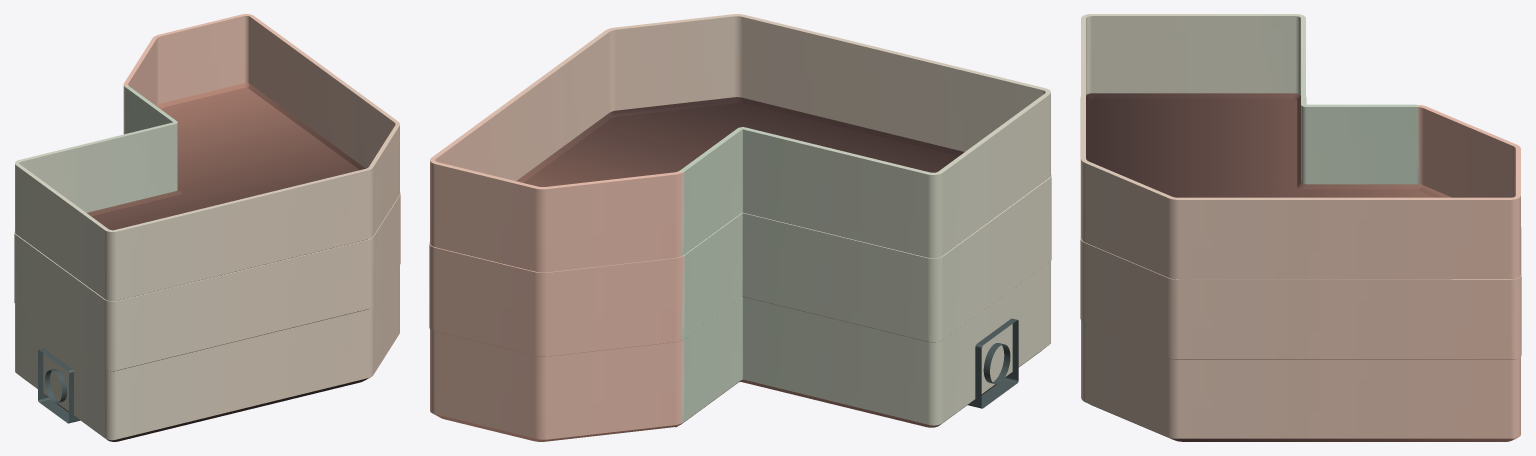
The model's file is SM_Room_1.fbx.
The picture shows the model from 3 angles, left to right: view 1: azimuth 30°, elevation 25°; view 2: azimuth 150°, elevation 25°; view 3: azimuth 270°, elevation 25°; orthographic projection. The views are drawn at different scales.
Visible parts, largest first — view 1: duplicated_24, pPlane3, SM_Room_1, polySurface7; view 2: duplicated_24, pPlane3, SM_Room_1, polySurface7; view 3: duplicated_24, SM_Room_1, pPlane3.
Boxes of the visible parts, x1,y1,x2,y2 form: duplicated_24: (15,14,399,301); pPlane3: (14,192,400,371); SM_Room_1: (15,265,399,441); polySurface7: (38,348,80,423); duplicated_24: (430,14,1050,272); pPlane3: (429,174,1051,356); SM_Room_1: (430,261,1050,441); polySurface7: (967,318,1018,408); duplicated_24: (1081,14,1520,279); SM_Room_1: (1081,320,1520,441); pPlane3: (1080,97,1521,359).
Size of the model in its own units: 3049 by 1860 by 3007.
Materials: 1 (1 with a texture image).
